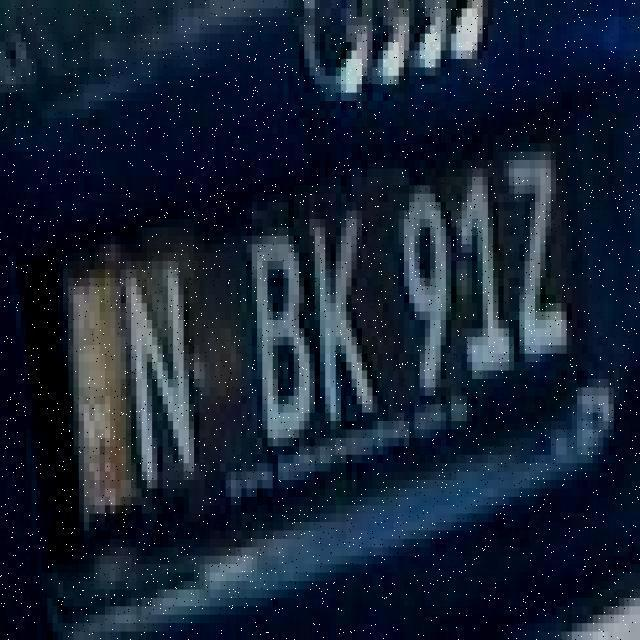LicensePlate: (54, 92, 591, 587)
